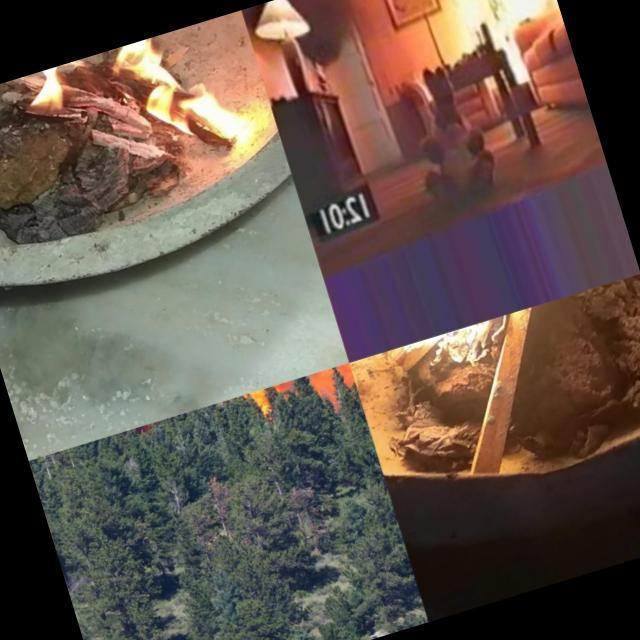fire: (358, 0, 564, 78), (123, 59, 260, 172), (105, 29, 193, 102), (24, 60, 87, 110)
